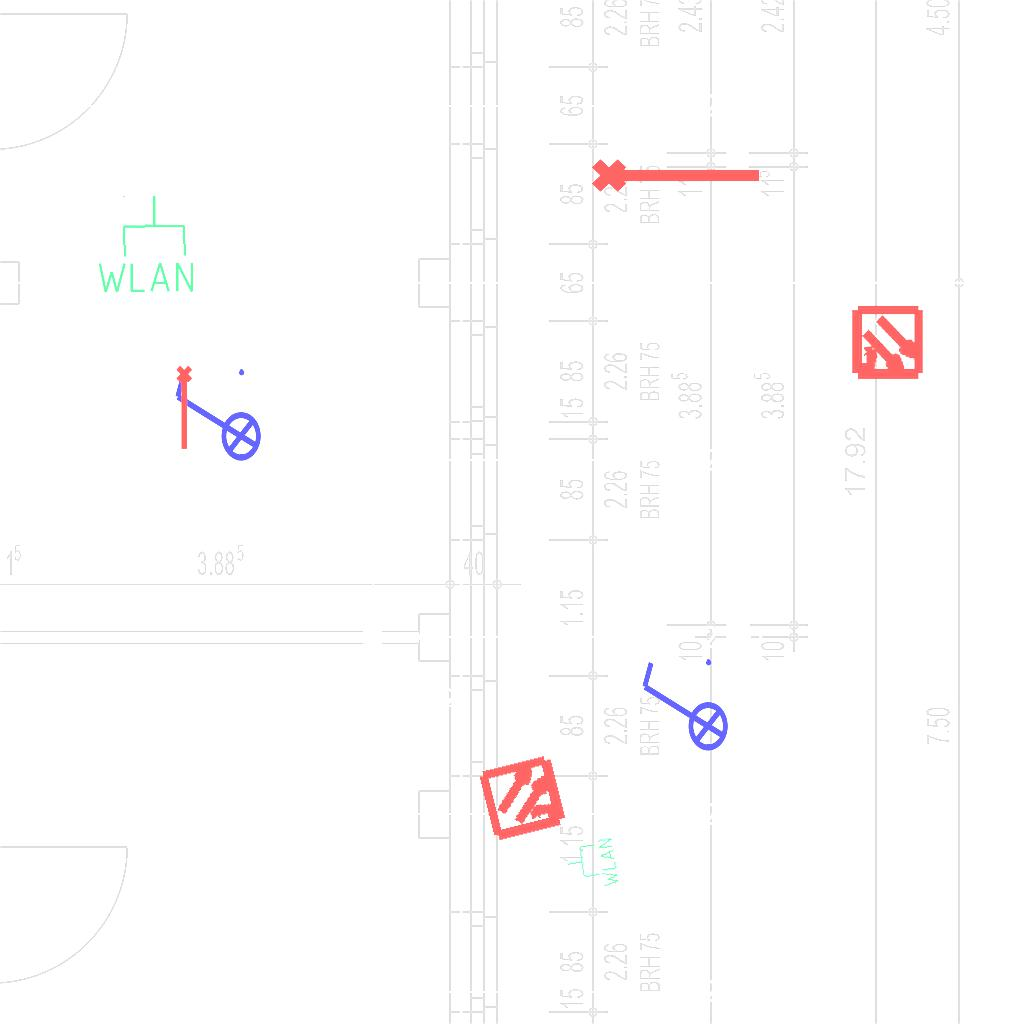ASR_Ansaugoeffnung: (589, 150, 765, 196), (174, 364, 197, 452)
Ausschalter_beleuchtet: (634, 653, 730, 765), (167, 363, 263, 475)
OT_Multisensormelder_(Kombination_RMO_WMD): (456, 729, 593, 866), (831, 288, 944, 401)
WLAN: (91, 191, 199, 298), (562, 835, 622, 895)
